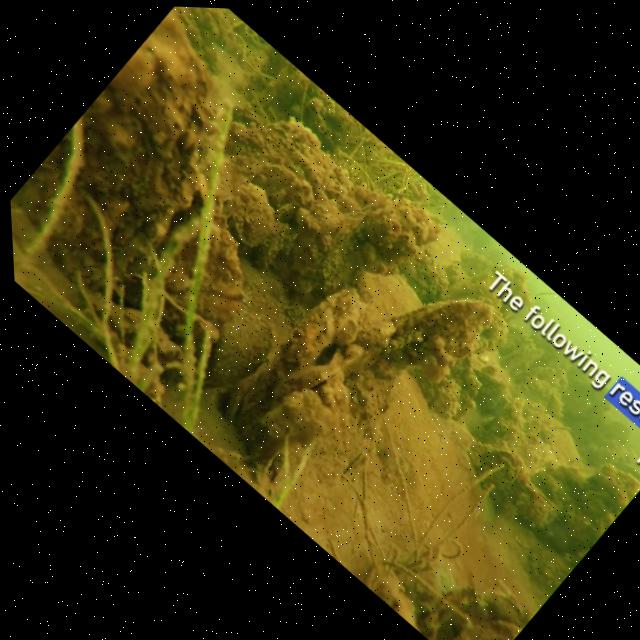Oyster-Closed: (208, 272, 396, 464), (267, 197, 304, 234)
Oyster-Indeterminate: (2, 8, 299, 310), (113, 186, 288, 359), (369, 267, 505, 404), (168, 283, 293, 409), (440, 218, 551, 321), (201, 174, 306, 277), (341, 207, 442, 305), (490, 461, 568, 536), (463, 567, 543, 640), (425, 584, 525, 640), (452, 350, 526, 419), (295, 233, 366, 303), (427, 575, 499, 640), (256, 56, 324, 122), (490, 326, 556, 390), (188, 7, 249, 60), (283, 201, 336, 251)
Oyster-Open: (459, 433, 542, 515)
